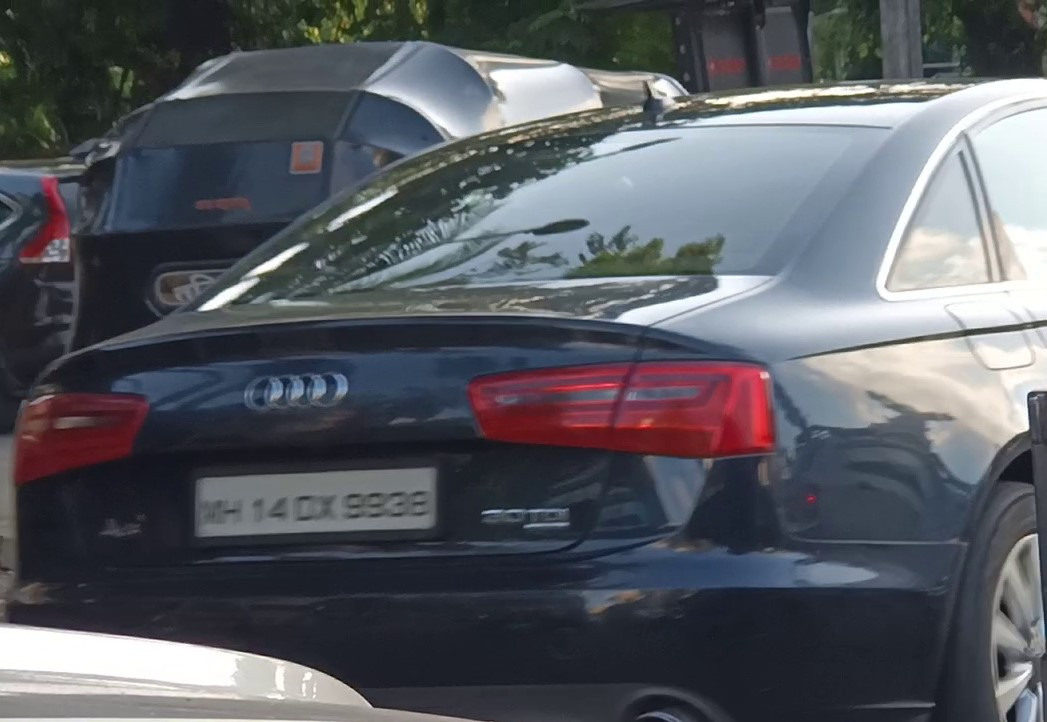MH14DX9938: (192, 465, 436, 532)
